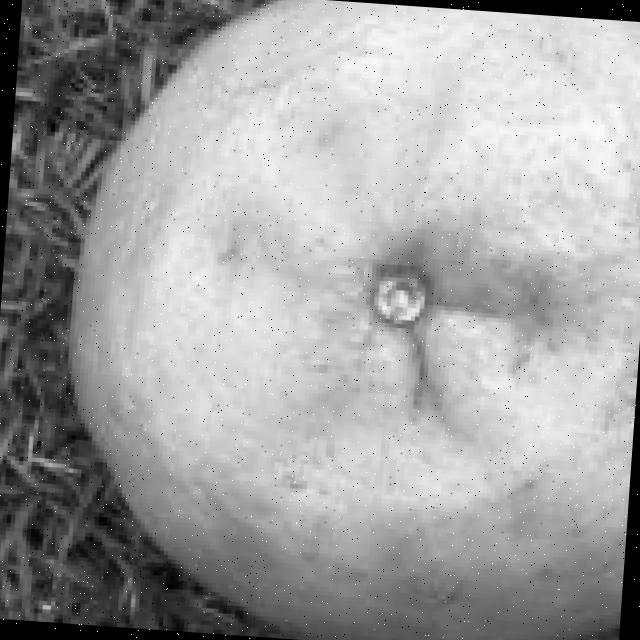Bad_Orange-0-1 day: (63, 0, 640, 640)
